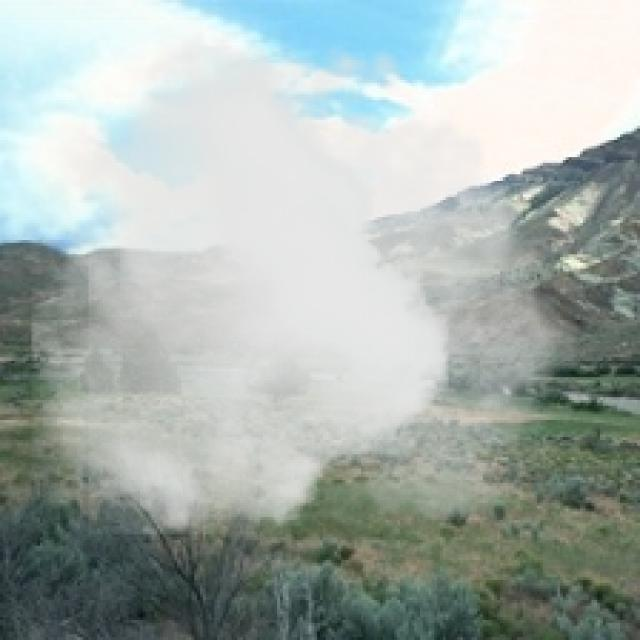smoke: (32, 14, 597, 534)
